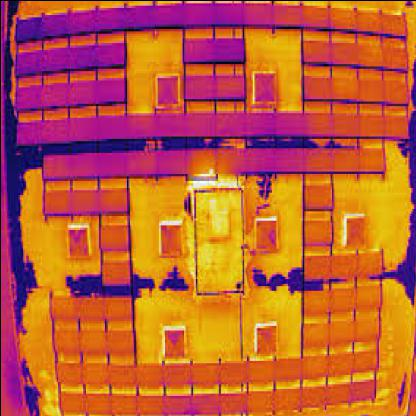Defects: (193, 184, 244, 292), (247, 38, 274, 72)
